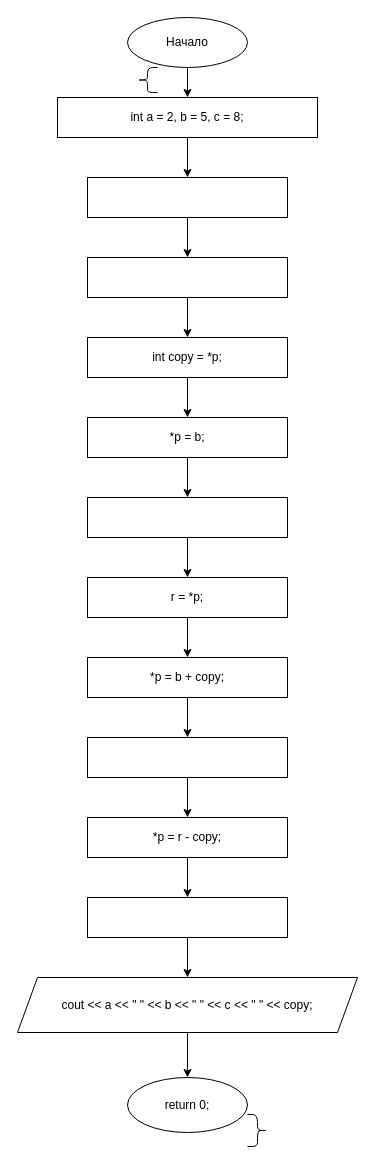
Some shapes in this 375 by 1164 pixel diagram are drawn without their labels. Each missing label, with the centre of its shape:
"int& r = a;" goes at point (187, 277).
"int* p = &a;" goes at point (187, 197).
"p = &b;" goes at point (187, 757).
"p = &c;" goes at point (187, 517).
"r++;" goes at point (187, 917).
